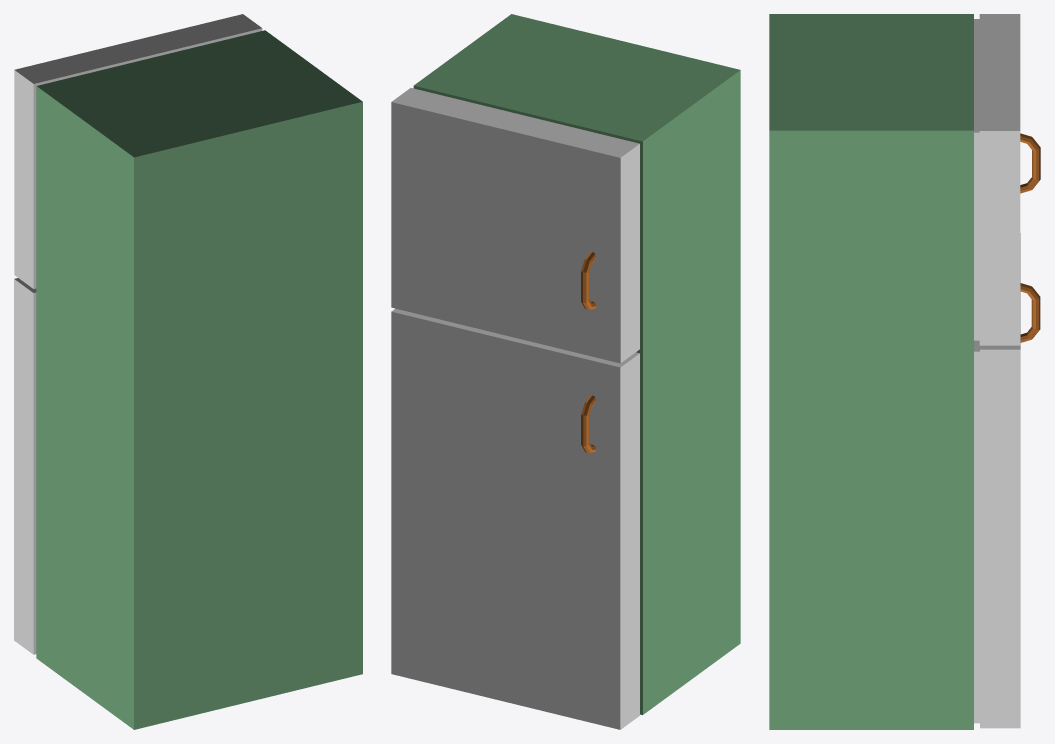
The model's file is Refrigerator 3.fbx.
The picture shows the model from 3 angles, left to right: view 1: azimuth 30°, elevation 25°; view 2: azimuth 150°, elevation 25°; view 3: azimuth 270°, elevation 25°; orthographic projection. The views are drawn at different scales.
Parts seen in each view (by area): view 1: Node 0, Node 3, Node 4; view 2: Node 4, Node 0, Node 3; view 3: Node 0, Node 4, Node 3.
Boxes of the visible parts, <box> form: Node 0: <box>36,30,362,729</box>; Node 3: <box>14,14,262,288</box>; Node 4: <box>14,278,36,654</box>; Node 4: <box>391,308,639,729</box>; Node 0: <box>413,14,740,714</box>; Node 3: <box>391,88,639,363</box>; Node 0: <box>769,14,973,729</box>; Node 4: <box>974,233,1040,728</box>; Node 3: <box>974,14,1040,345</box>.
Size of the model in its own units: 0.9946 by 2.43 by 1.01.
